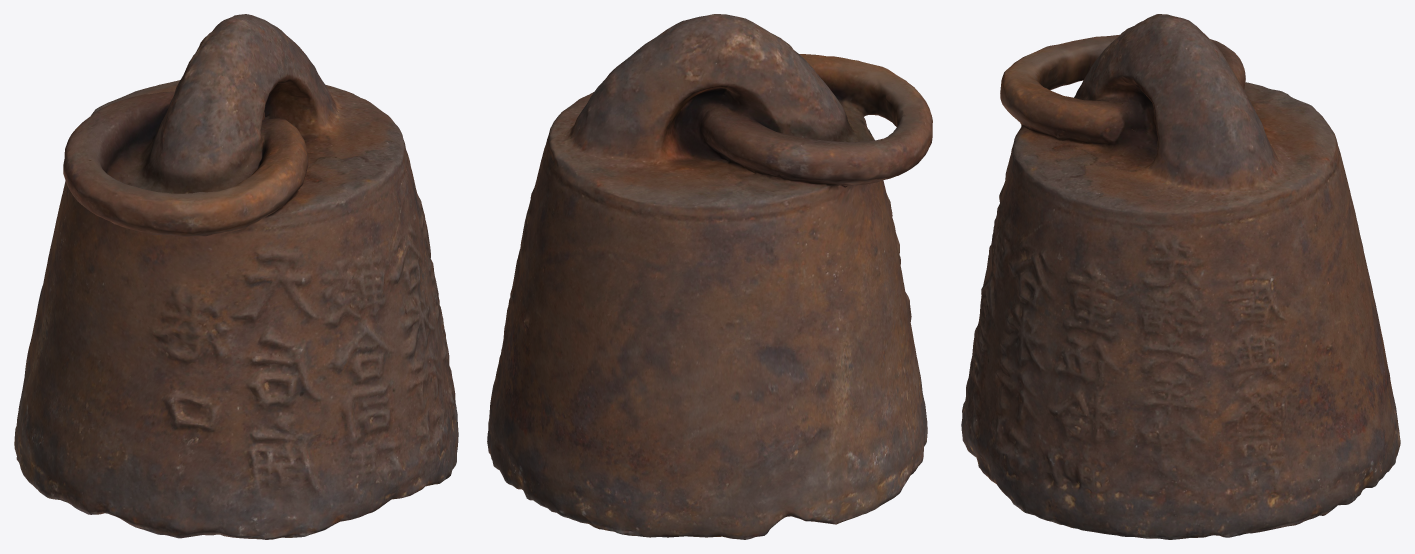
Rendered from 清港口天后庙较合司码铁权.fbx.
3 renders of one model, left to right at view 1: azimuth 30°, elevation 25°; view 2: azimuth 150°, elevation 25°; view 3: azimuth 270°, elevation 25°, orthographic.
Parts seen in each view (by area): view 1: defaultobject; view 2: defaultobject; view 3: defaultobject.
Boxes of the visible parts, x1,y1,x2,y2 form: defaultobject: (14, 14, 458, 539); defaultobject: (487, 14, 932, 539); defaultobject: (961, 14, 1400, 539).
Bounding box in the file's own units: 15.36 × 16.55 × 15.39.
1 material, 1 textured.
